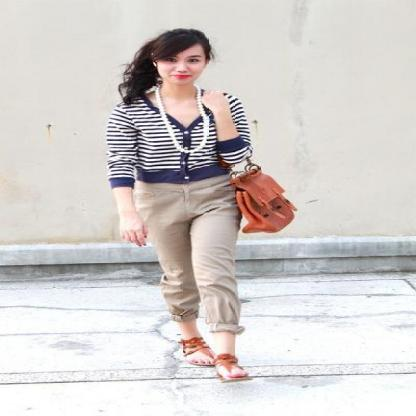bag: (231, 164, 296, 233)
jacket: (105, 108, 251, 189)
pants: (142, 171, 248, 324)
shoe: (178, 337, 243, 370)
